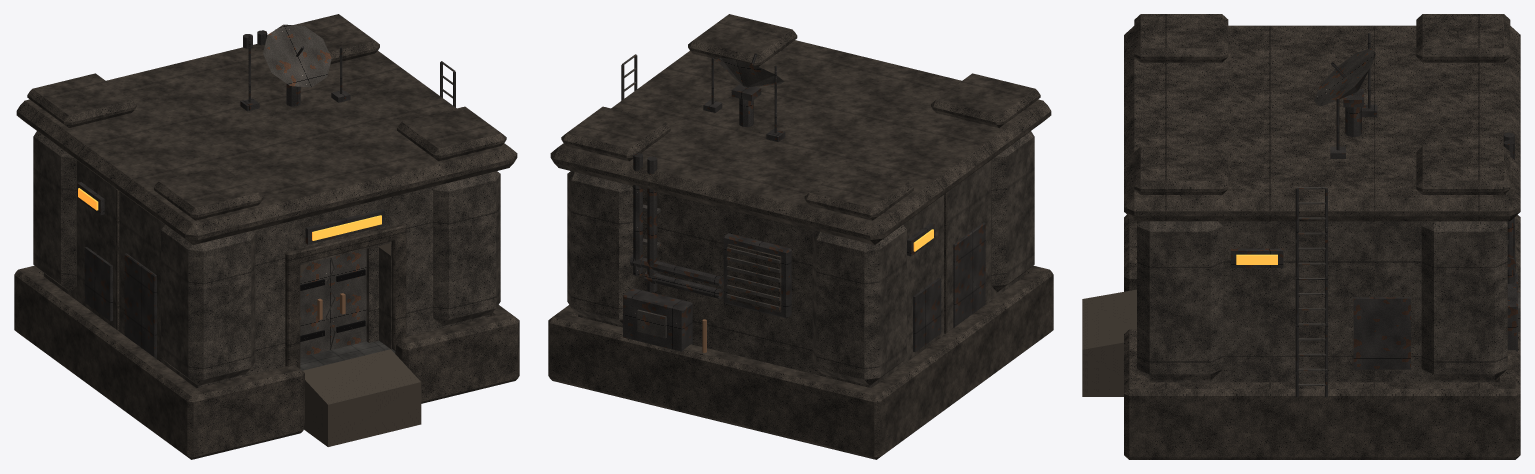
File: outpost73_bunker.glb
The picture shows the model from 3 angles, left to right: view 1: azimuth 30°, elevation 25°; view 2: azimuth 150°, elevation 25°; view 3: azimuth 270°, elevation 25°; orthographic projection. The views are drawn at different scales.
Parts seen in each view (by area): view 1: bunker_shell, door_right, door_left; view 2: bunker_shell; view 3: bunker_shell.
Part boxes in pixels (box(x1,y1,x2,y2)): bunker_shell: box(14, 14, 519, 459); door_right: box(325, 249, 366, 349); door_left: box(300, 258, 334, 357); bunker_shell: box(548, 14, 1053, 459); bunker_shell: box(1082, 14, 1520, 459).
Size of what is drawn, in the model's own units: 8.48 by 7.2 by 8.4.
10 materials, 5 textured.
